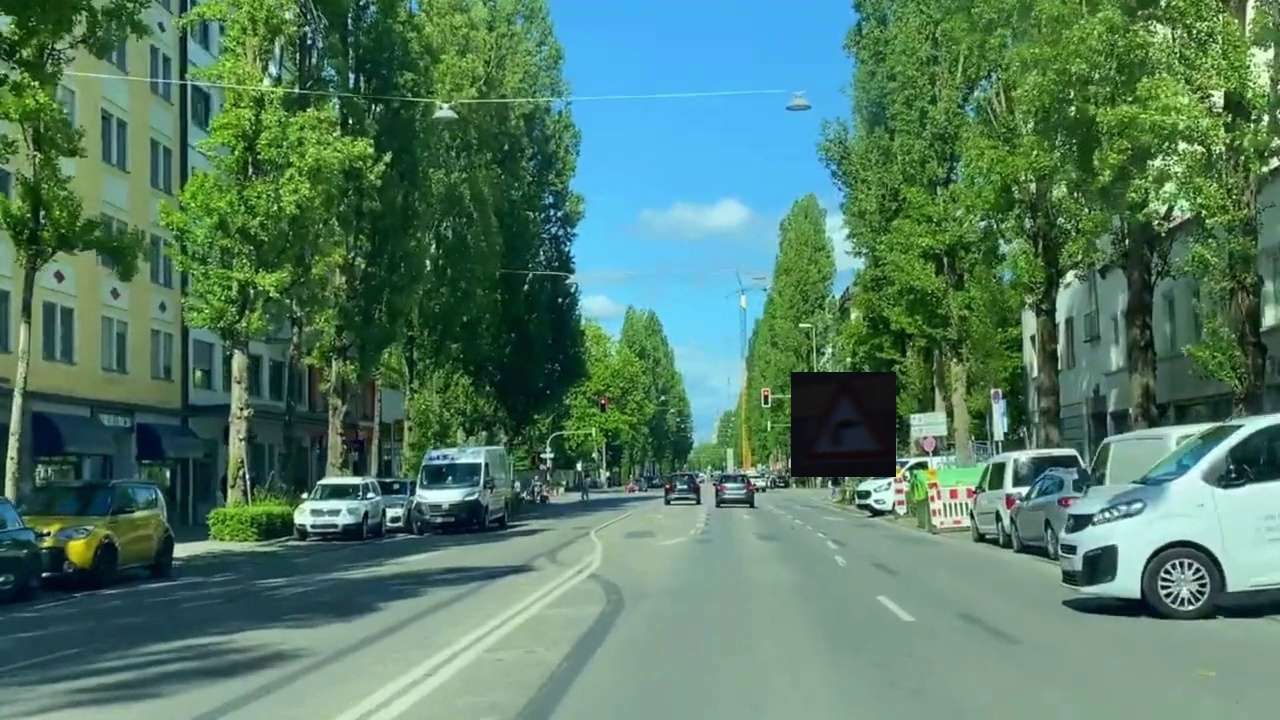Curve right: (791, 372, 896, 477)
